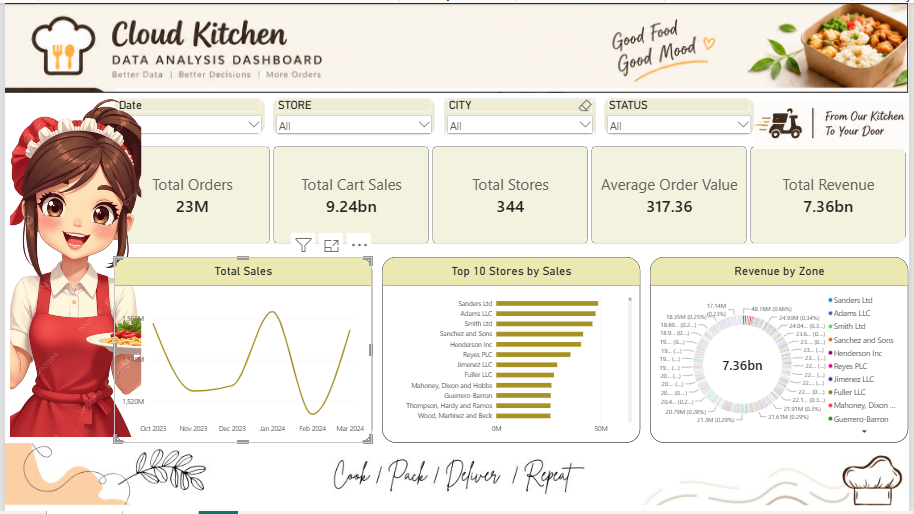

What the dashboard file says about the page in this screenshot:
{"tool":"powerbi","page":{"name":"Page 1","canvas":[1920,1080],"ordinal":0},"visuals":[{"type":"textbox","box":[10.1,0,1909.9,231.8],"z":0},{"type":"cardVisual","fields":{"Data":["stores.Total Orders","stores.Total Cart Sales","stores.Total Stores","stores.Average Order Value","stores.Total Revenue"]},"box":[231.7,304,1688,208.3],"z":2000},{"type":"lineChart","title":"Total Sales","fields":{"Category":["stores.MONTH"],"Y":["stores.Total Cart Sales"]},"box":[231.7,540,548.5,395.4],"z":3000},{"type":"clusteredBarChart","title":"Top 10 Stores by Sales","fields":{"Category":["stores.STORE"],"Y":["stores.Total Sales"]},"box":[801.5,540,548.5,395.4],"z":4000},{"type":"donutChart","title":"Revenue by Zone","fields":{"Category":["stores.STORE"],"Y":["stores.Total Sales"]},"box":[1371.3,540,548.5,395.4],"z":5000},{"type":"slicer","fields":{"Values":["stores.STORE"]},"box":[569.8,202,344.4,78.7],"z":6000},{"type":"slicer","fields":{"Values":["stores.CITY"]},"box":[933.3,202,323.1,78.7],"z":7000},{"type":"slicer","fields":{"Values":["stores.STATUS"]},"box":[1273.5,202,318.9,78.7],"z":8000},{"type":"slicer","fields":{"Values":["Calendar.Date"]},"box":[230.7,202.5,320.4,76.9],"z":9000},{"type":"image","box":[0,0,1919.8,191.3],"z":10000},{"type":"image","box":[0,922.7,1919.8,157.3],"z":11000},{"type":"image","box":[1592.4,155.2,327.4,208.3],"z":11001},{"type":"image","box":[10.6,202,278.5,720.7],"z":11002}]}

Visuals, with their boxes in screenshot pixels (x1, y1, x2, y2), scaled from the page's 1920x1080 canvas onto the 914x514 screenshot:
textbox: {"left": 5, "top": 0, "right": 913, "bottom": 110}
cardVisual - stores.Total Orders x stores.Total Cart Sales: {"left": 110, "top": 145, "right": 913, "bottom": 244}
"Total Sales" lineChart: {"left": 110, "top": 257, "right": 371, "bottom": 445}
"Top 10 Stores by Sales" clusteredBarChart: {"left": 382, "top": 257, "right": 643, "bottom": 445}
"Revenue by Zone" donutChart: {"left": 653, "top": 257, "right": 913, "bottom": 445}
slicer - stores.STORE: {"left": 271, "top": 96, "right": 435, "bottom": 134}
slicer - stores.CITY: {"left": 444, "top": 96, "right": 598, "bottom": 134}
slicer - stores.STATUS: {"left": 606, "top": 96, "right": 758, "bottom": 134}
slicer - Calendar.Date: {"left": 110, "top": 96, "right": 262, "bottom": 133}
image: {"left": 0, "top": 0, "right": 913, "bottom": 91}
image: {"left": 0, "top": 439, "right": 913, "bottom": 513}
image: {"left": 758, "top": 74, "right": 913, "bottom": 173}
image: {"left": 5, "top": 96, "right": 138, "bottom": 439}
